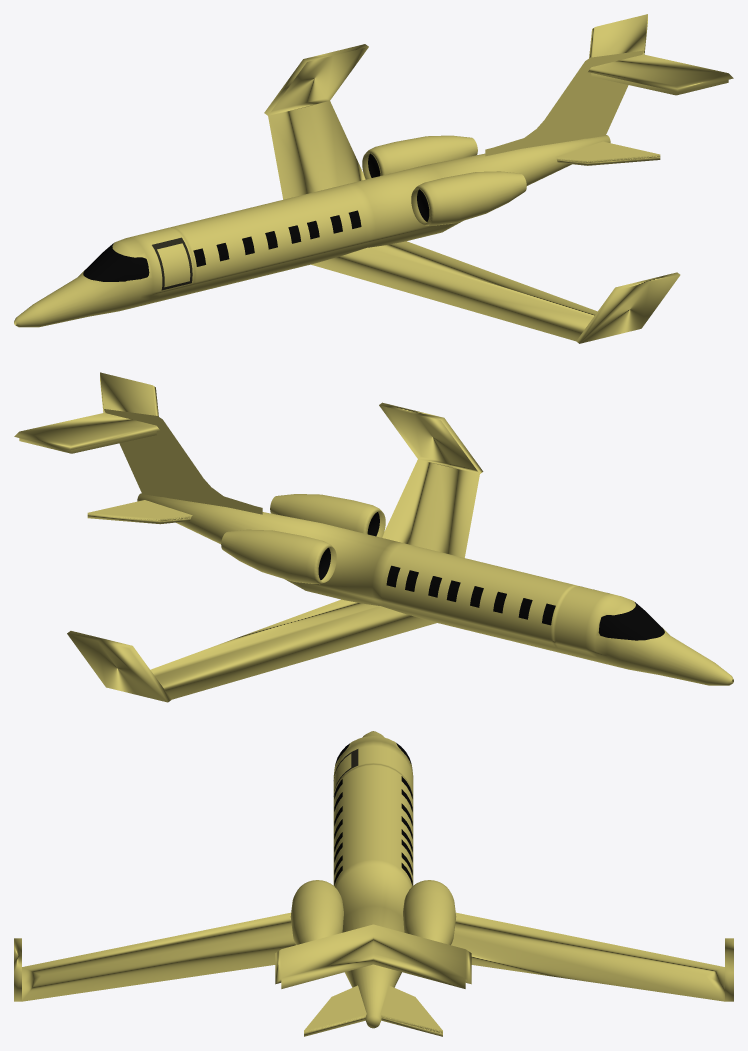
File: jet.obj
3 views of the same model, one above another, from view 1: azimuth 30°, elevation 25°; view 2: azimuth 150°, elevation 25°; view 3: azimuth 270°, elevation 25° (orthographic). The views are drawn at different scales.
Parts seen in each view (by area): view 1: Flugzeug_Plane.001; view 2: Flugzeug_Plane.001; view 3: Flugzeug_Plane.001.
Part boxes in pixels (bbox=[...]): Flugzeug_Plane.001: bbox=[14, 14, 733, 343]; Flugzeug_Plane.001: bbox=[14, 372, 733, 702]; Flugzeug_Plane.001: bbox=[14, 731, 733, 1036].
Size of the model in its own units: 4.78 by 0.9309 by 3.87.
